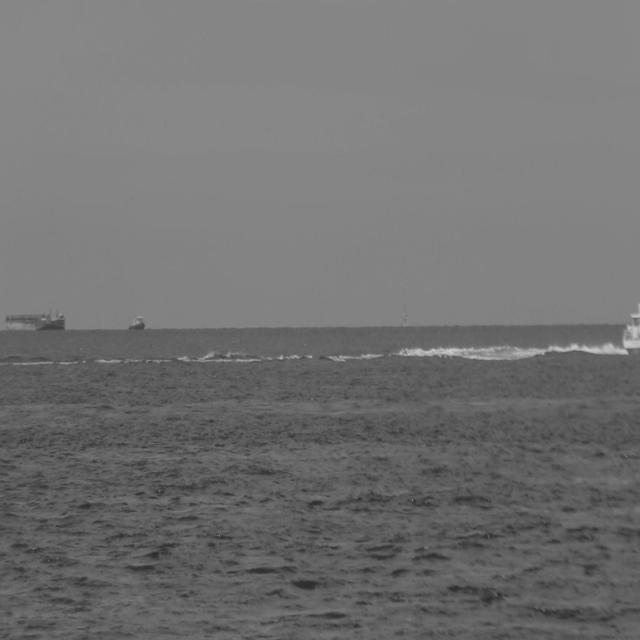ship: (1, 301, 62, 327), (620, 297, 640, 363)
